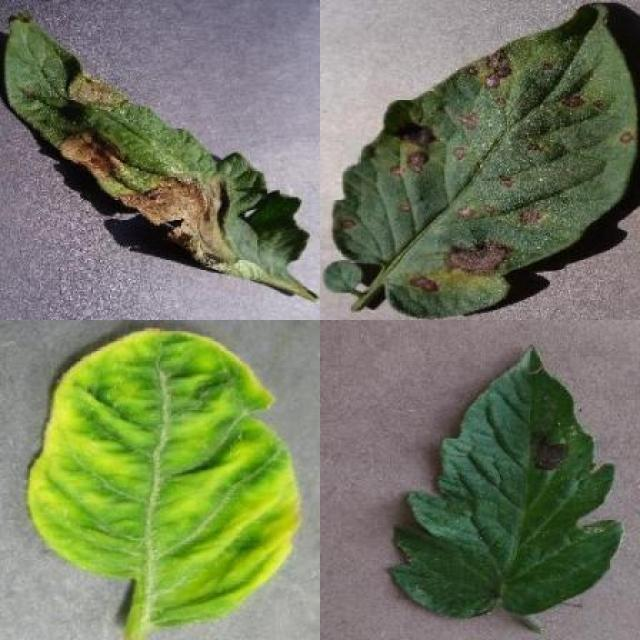Early Blight: (332, 3, 639, 320), (390, 347, 627, 614)
Late Blight: (6, 9, 314, 304)
Yellow Leaf Curl Virus: (27, 324, 300, 626)
